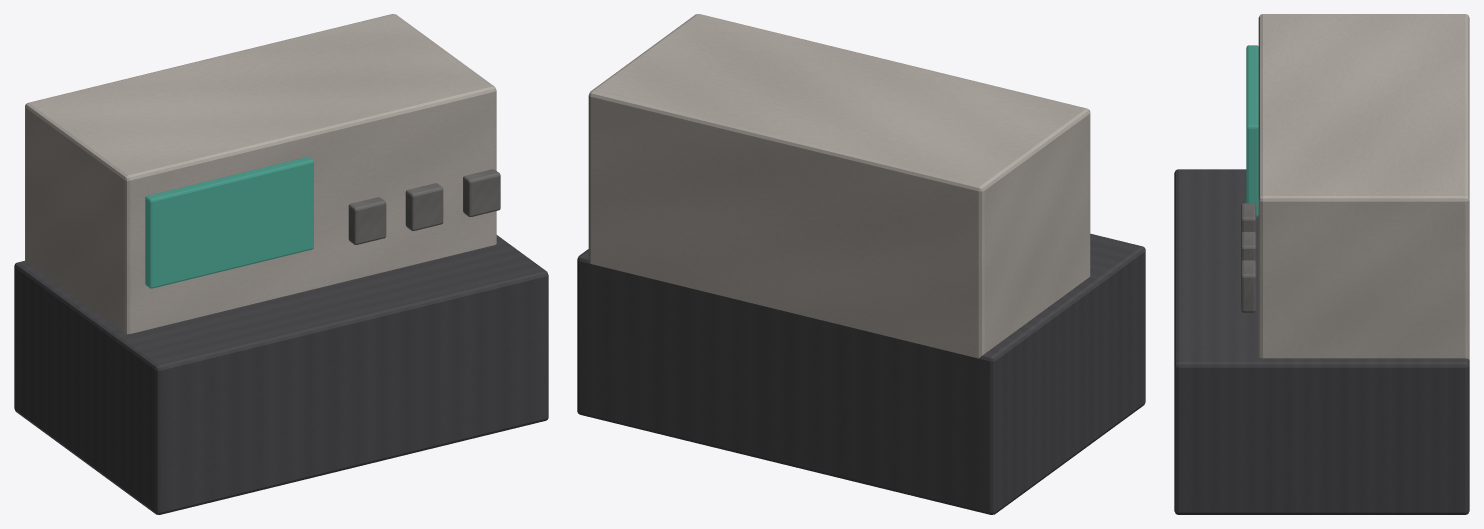
Rendered from lab_electronics_station.glb.
The picture shows the model from 3 angles, left to right: view 1: azimuth 30°, elevation 25°; view 2: azimuth 150°, elevation 25°; view 3: azimuth 270°, elevation 25°; orthographic projection. The views are drawn at different scales.
Parts seen in each view (by area): view 1: base.007, housing, instrument_display, switch.003, switch.004, switch.005; view 2: housing, base.007; view 3: housing, base.007, instrument_display, switch.005, switch.004, switch.003.
Boxes of the visible parts, x1,y1,x2,y2 form: base.007: (14,235,548,514); housing: (25,14,496,334); instrument_display: (145,157,313,288); switch.003: (348,197,386,244); switch.004: (405,183,443,230); switch.005: (463,169,500,216); housing: (588,14,1090,358); base.007: (577,233,1145,514); housing: (1258,14,1469,359); base.007: (1174,169,1469,514); instrument_display: (1246,45,1258,216); switch.005: (1241,260,1256,312); switch.004: (1241,231,1256,262); switch.003: (1241,203,1256,233).
Size of the model in its own units: 0.55 by 0.41 by 0.35.
Materials: 4 (3 with a texture image).
